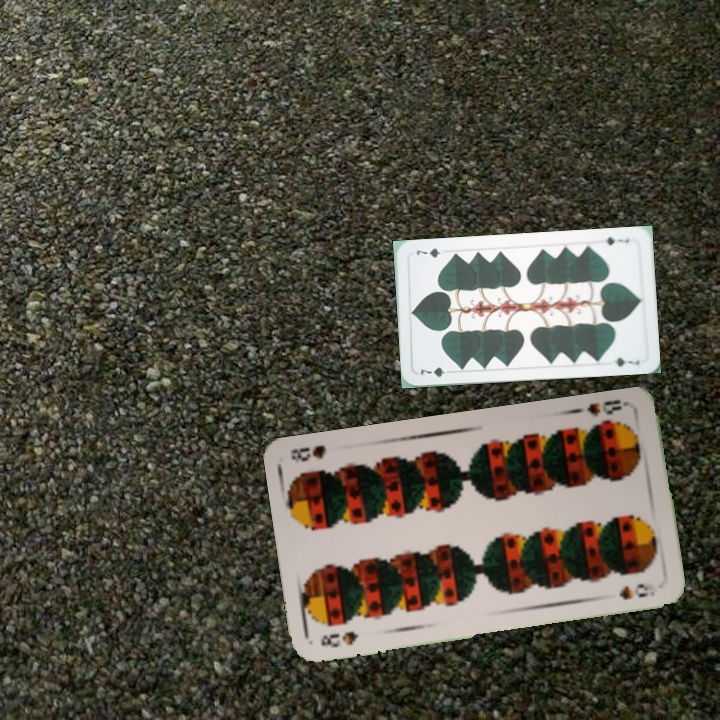G7: (416, 363, 456, 380), (601, 233, 632, 248)
S8: (582, 396, 633, 419), (316, 627, 361, 650)
